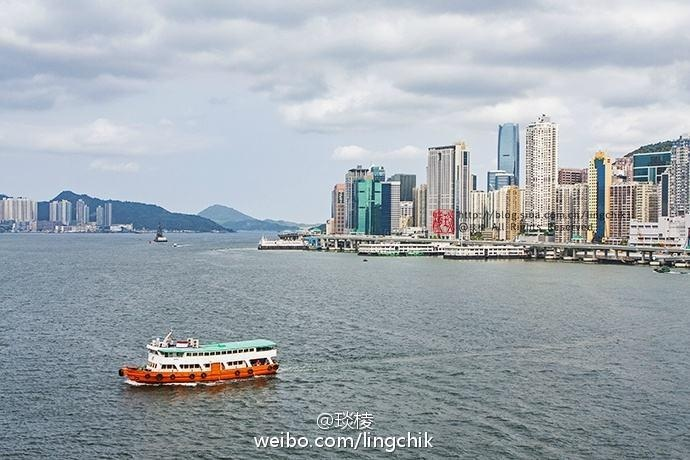otherboat: (118, 331, 281, 391)
